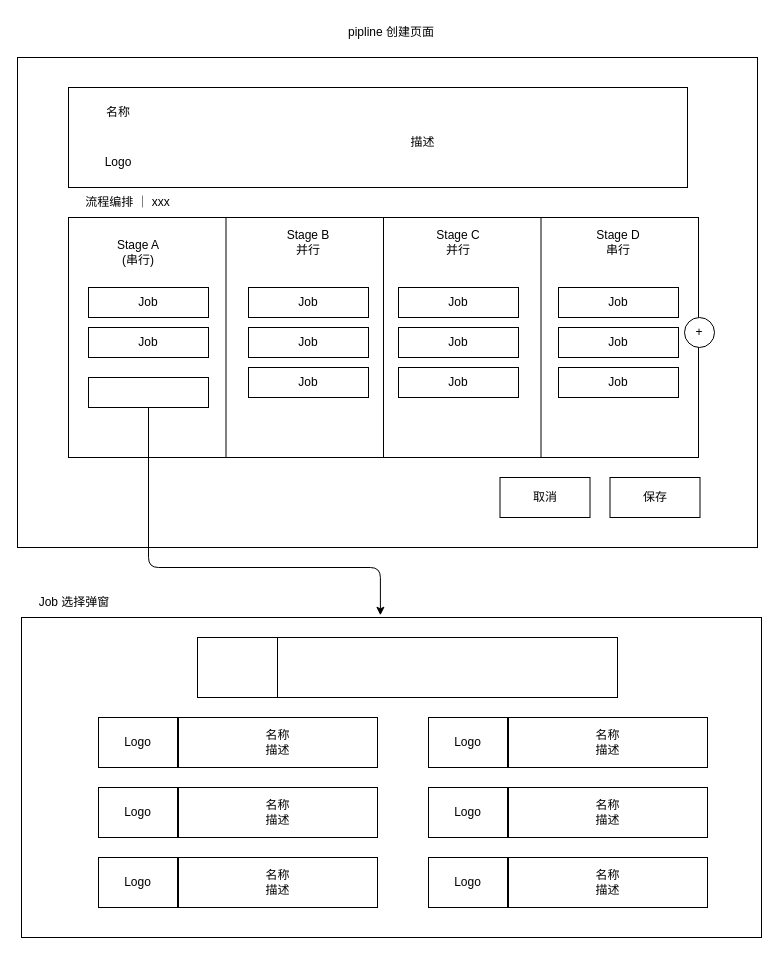
The diagram is 779 pixels wide and 955 high, and some of its shapes have lost their labels. Here are the shapes that lost their labels. From the top down, the centre of each, then its label:
(x=148, y=392): + 新增
(x=237, y=667): 全部<分类>
(x=447, y=667): Job名称或者描述 进行Job搜索
